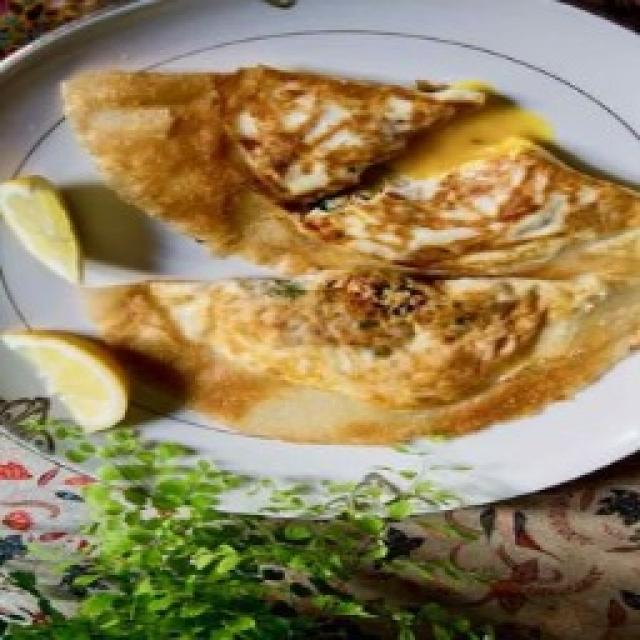Brik: (66, 71, 640, 442)
